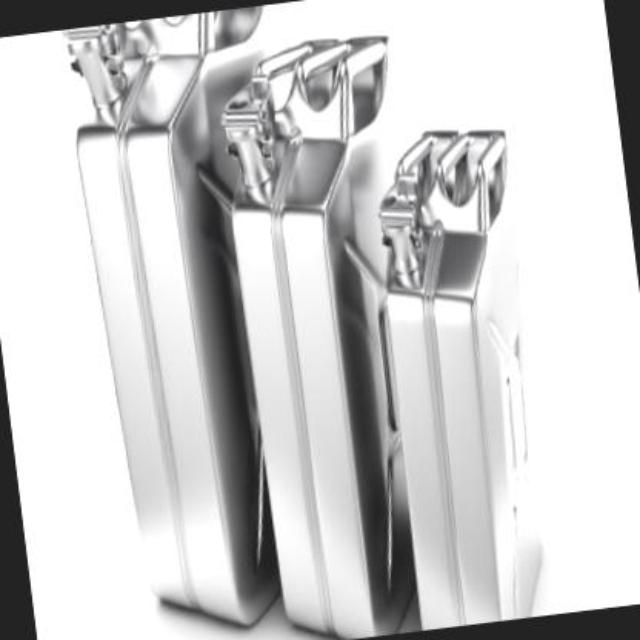chemical_plastic_gallon: (357, 113, 567, 629)
